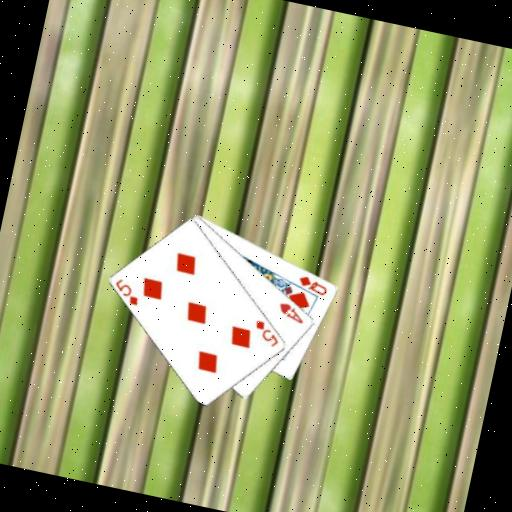5D: (108, 274, 144, 307), (249, 316, 284, 349)
AH: (273, 298, 307, 325)
QD: (294, 270, 331, 297)
